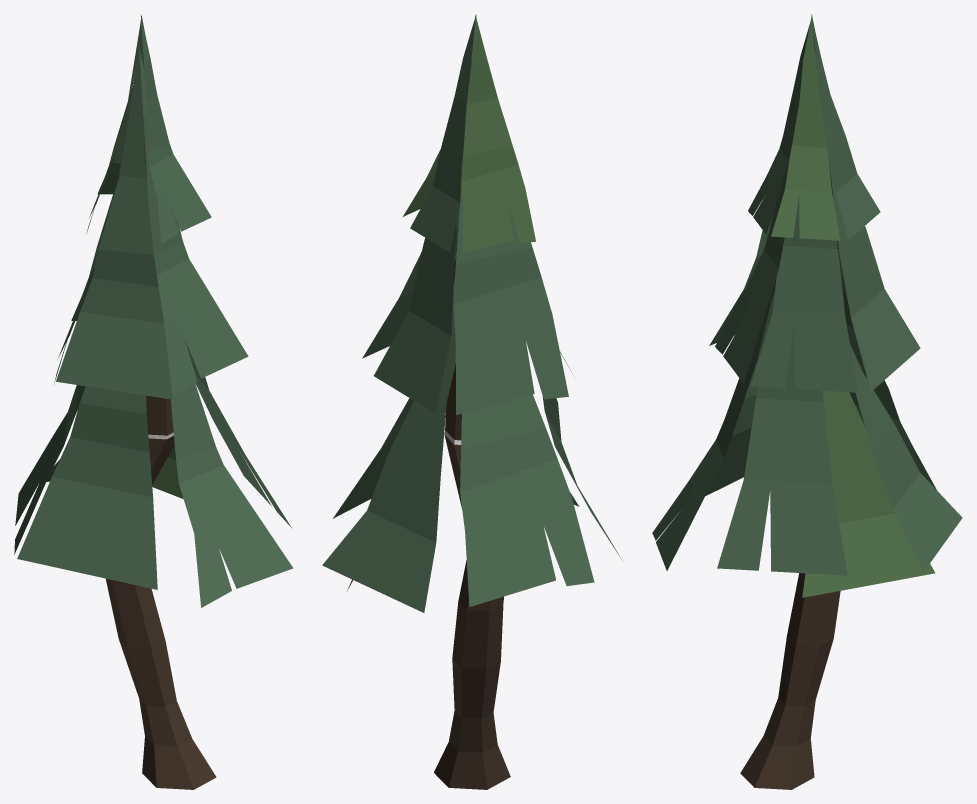
File: tree7.fbx
3 views of the same model, side by side, from view 1: azimuth 30°, elevation 25°; view 2: azimuth 150°, elevation 25°; view 3: azimuth 270°, elevation 25° (orthographic). The views are drawn at different scales.
Parts seen in each view (by area): view 1: Plane.050; view 2: Plane.050; view 3: Plane.050.
Boxes of the visible parts, x1,y1,x2,y2 form: Plane.050: (14, 14, 293, 789); Plane.050: (322, 14, 622, 789); Plane.050: (652, 14, 962, 789).
Bounding box in the file's own units: 3.66 × 10.37 × 3.88.
